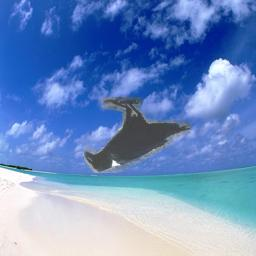Crow: (85, 97, 192, 173)
